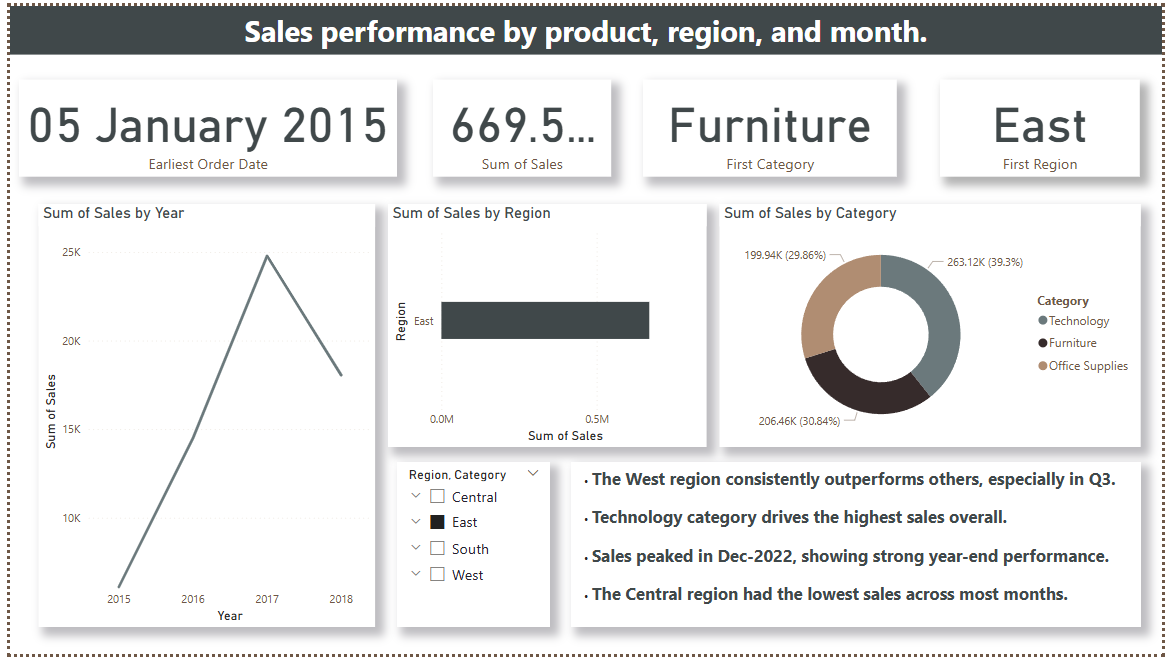

The page's visual inventory and layout, read from the dashboard file:
{"tool":"powerbi","page":{"name":"Page 1","canvas":[1280,720],"ordinal":0},"visuals":[{"type":"lineChart","fields":{"Category":["train.Order Date.Variation.Date Hierarchy.Year","train.Order Date.Variation.Date Hierarchy.Quarter","train.Order Date.Variation.Date Hierarchy.Month","train.Order Date.Variation.Date Hierarchy.Day"],"Y":["Sum(train.Sales)"]},"box":[32,220,374,470],"z":0},{"type":"textbox","box":[0,0,1280,54],"z":1000},{"type":"card","fields":{"Values":["Sum(train.Sales)"]},"box":[470,82,198,108],"z":2000},{"type":"card","fields":{"Values":["Min(train.Order Date)"]},"box":[10,82,420,108],"z":3000},{"type":"card","fields":{"Values":["Min(train.Category)"]},"box":[704,82,282,108],"z":4000},{"type":"card","fields":{"Values":["Min(train.Region)"]},"box":[1034,82,222,108],"z":5000},{"type":"barChart","fields":{"Category":["train.Region"],"Y":["Sum(train.Sales)"]},"box":[420,220,354,270],"z":5001},{"type":"donutChart","fields":{"Category":["train.Category"],"Y":["Sum(train.Sales)"]},"box":[788,220,468,270],"z":5002},{"type":"slicer","fields":{"Values":["train.Region","train.Category"]},"box":[430,506.7,170,183.3],"z":5003},{"type":"textbox","box":[623.3,506.7,633.3,183.3],"z":5005}]}

Visuals, with their boxes in screenshot pixels (x1, y1, x2, y2), scaled from the page's 1280x720 canvas onto the 1167x660 screenshot:
lineChart - train.Order Date.Variation.Date Hierarchy.Year x train.Order Date.Variation.Date Hierarchy.Quarter: (29,202,370,632)
textbox: (0,0,1166,50)
card - Sum(train.Sales): (429,75,609,174)
card - Min(train.Order Date): (9,75,392,174)
card - Min(train.Category): (642,75,899,174)
card - Min(train.Region): (943,75,1145,174)
barChart - train.Region x Sum(train.Sales): (383,202,706,449)
donutChart - train.Category x Sum(train.Sales): (718,202,1145,449)
slicer - train.Region x train.Category: (392,464,547,632)
textbox: (568,464,1146,632)
